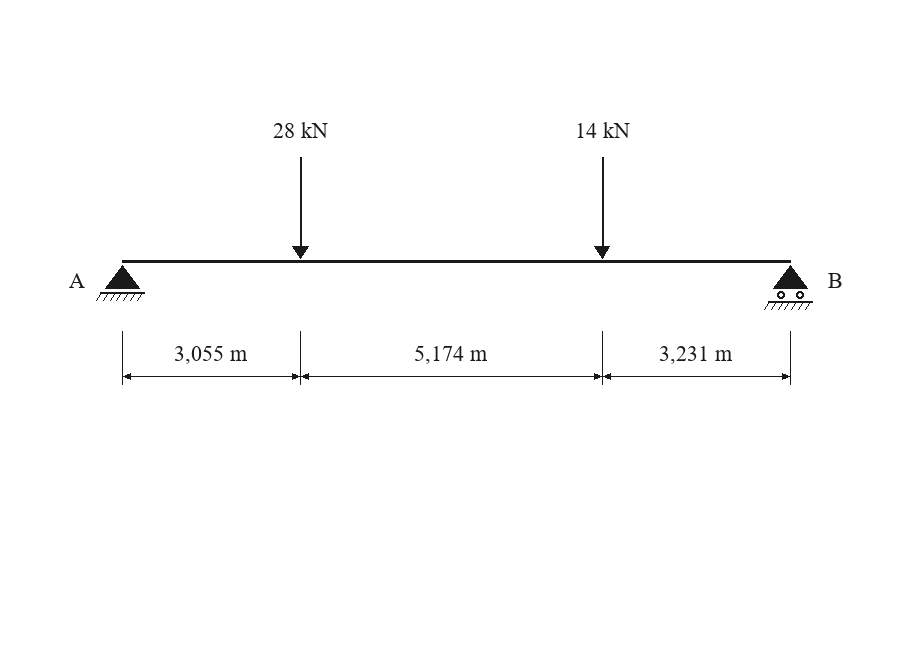pin_support: (96, 265, 145, 301)
point_load: (292, 157, 309, 259), (594, 157, 610, 259)
roller_support: (764, 265, 813, 310)
